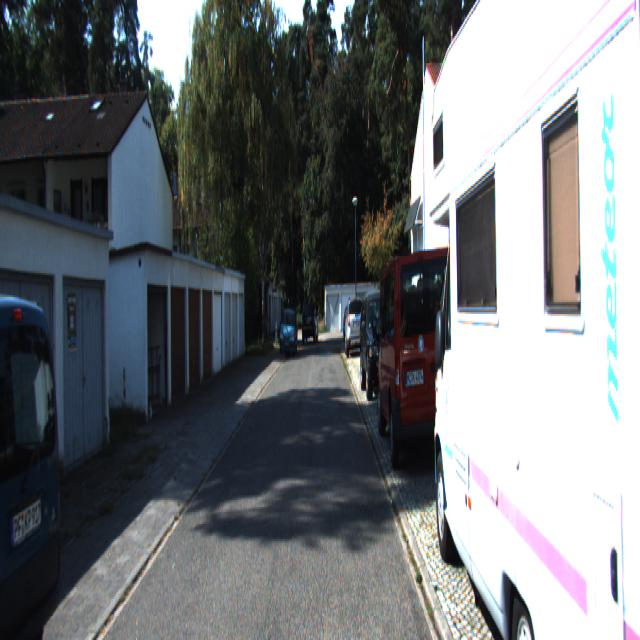Car: (424, 0, 609, 639), (0, 270, 72, 638), (375, 231, 465, 479), (359, 284, 400, 402), (345, 296, 366, 358), (280, 306, 297, 354), (302, 299, 319, 338)
